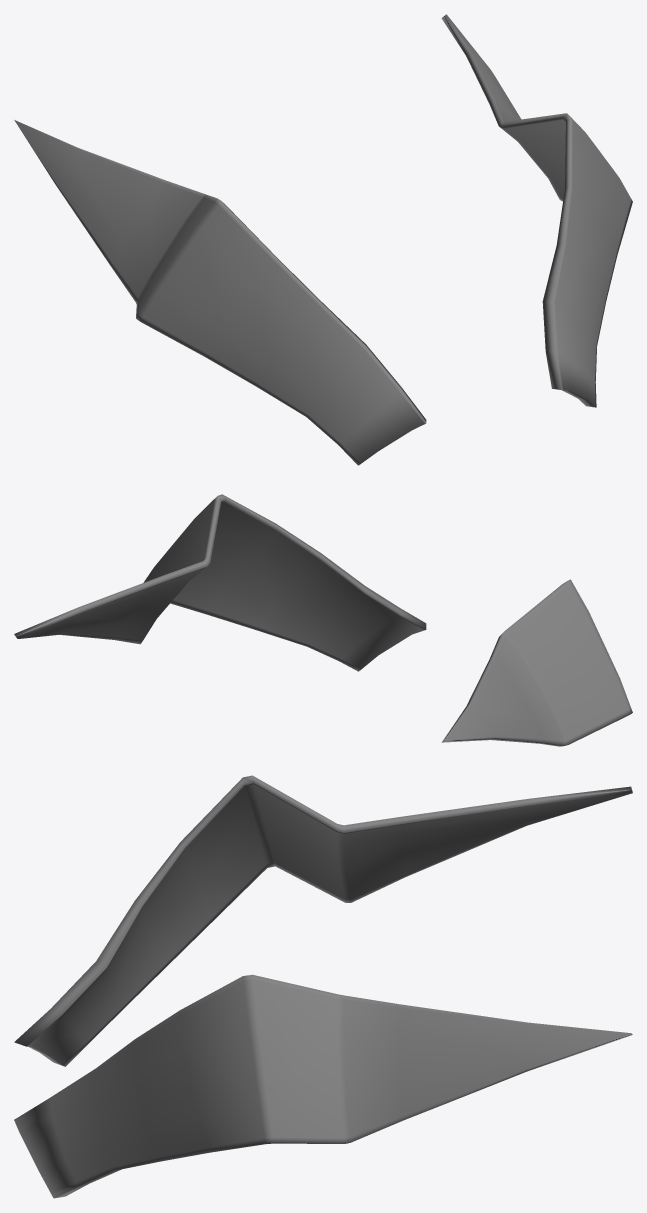
Rendered from ribbon.fbx.
3 renders of one model, top to bottom at view 1: azimuth 30°, elevation 25°; view 2: azimuth 150°, elevation 25°; view 3: azimuth 270°, elevation 25°, orthographic. The views are drawn at different scales.
Visible parts, largest first — view 1: ribbon; view 2: ribbon; view 3: ribbon.
Boxes of the visible parts, bbox=[...] form: ribbon: bbox=[14, 14, 632, 465]; ribbon: bbox=[14, 494, 632, 746]; ribbon: bbox=[14, 775, 632, 1198].
Size of the model in its own units: 24.69 by 10.48 by 22.9.
